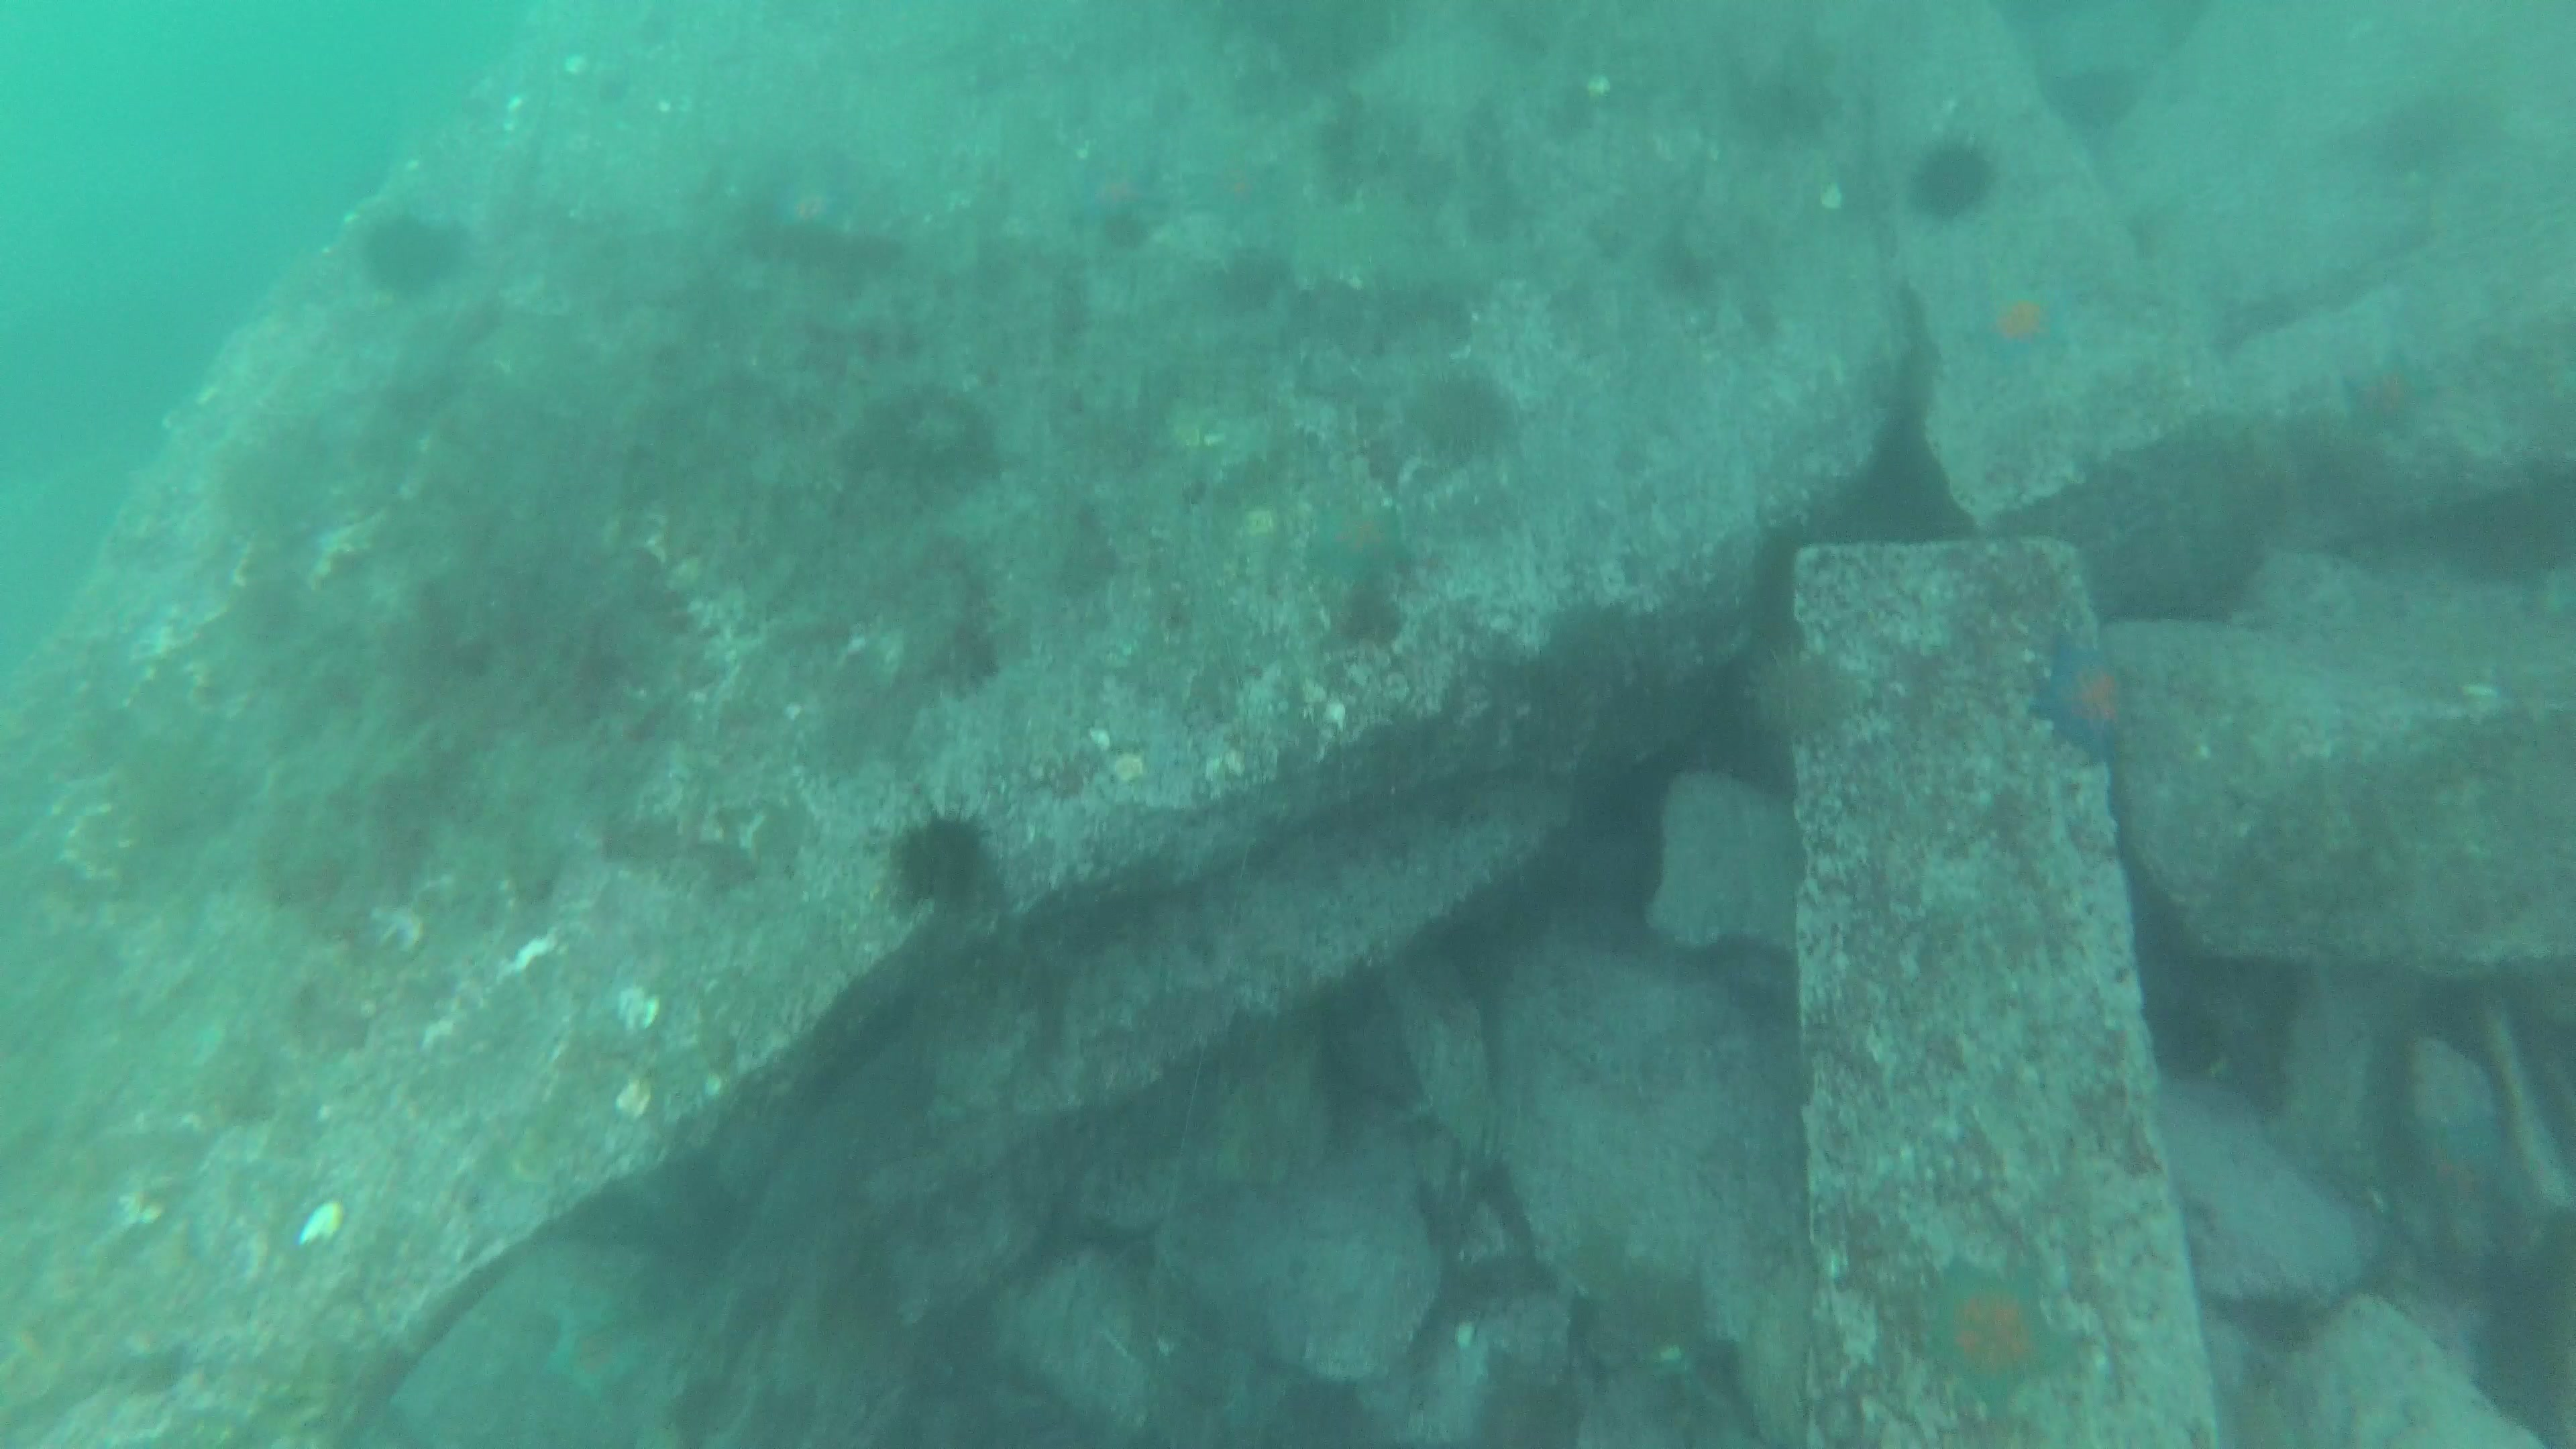echinus: (2114, 426, 2265, 614), (1401, 366, 1520, 460), (892, 800, 996, 902), (1744, 649, 1856, 736), (357, 214, 449, 294), (1904, 138, 1992, 214)
starfish: (1895, 1244, 2107, 1396), (2043, 635, 2135, 752), (2417, 1092, 2502, 1217), (1962, 269, 2074, 359), (1304, 487, 1410, 580)
